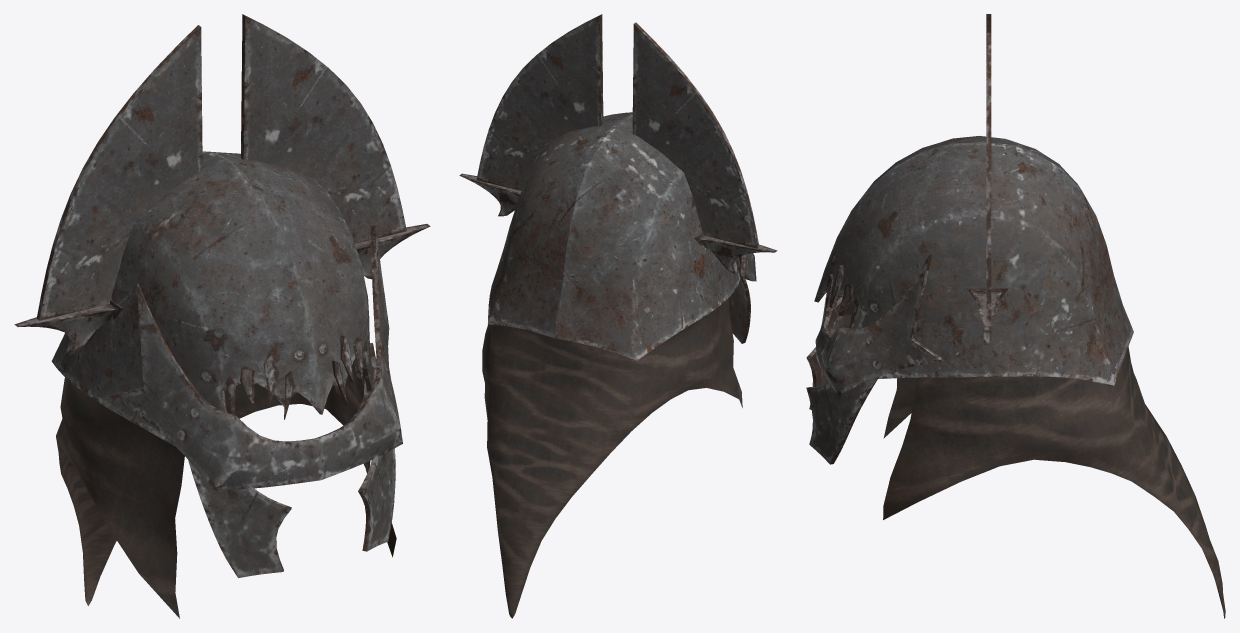
File: sk_gb_uruk_helmet_elite_h.fbx
3 views of the same model, side by side, from view 1: azimuth 30°, elevation 25°; view 2: azimuth 150°, elevation 25°; view 3: azimuth 270°, elevation 25° (orthographic). The views are drawn at different scales.
Parts seen in each view (by area): view 1: sk_gb_uruk_helmet_elite_h; view 2: sk_gb_uruk_helmet_elite_h; view 3: sk_gb_uruk_helmet_elite_h.
Boxes of the visible parts, x1=… form: sk_gb_uruk_helmet_elite_h: x1=14, y1=14, x2=430, y2=618; sk_gb_uruk_helmet_elite_h: x1=459, y1=14, x2=777, y2=618; sk_gb_uruk_helmet_elite_h: x1=806, y1=14, x2=1225, y2=618.
Size of the model in its own units: 0.3805 by 0.3859 by 0.604.
1 material, 1 textured.
